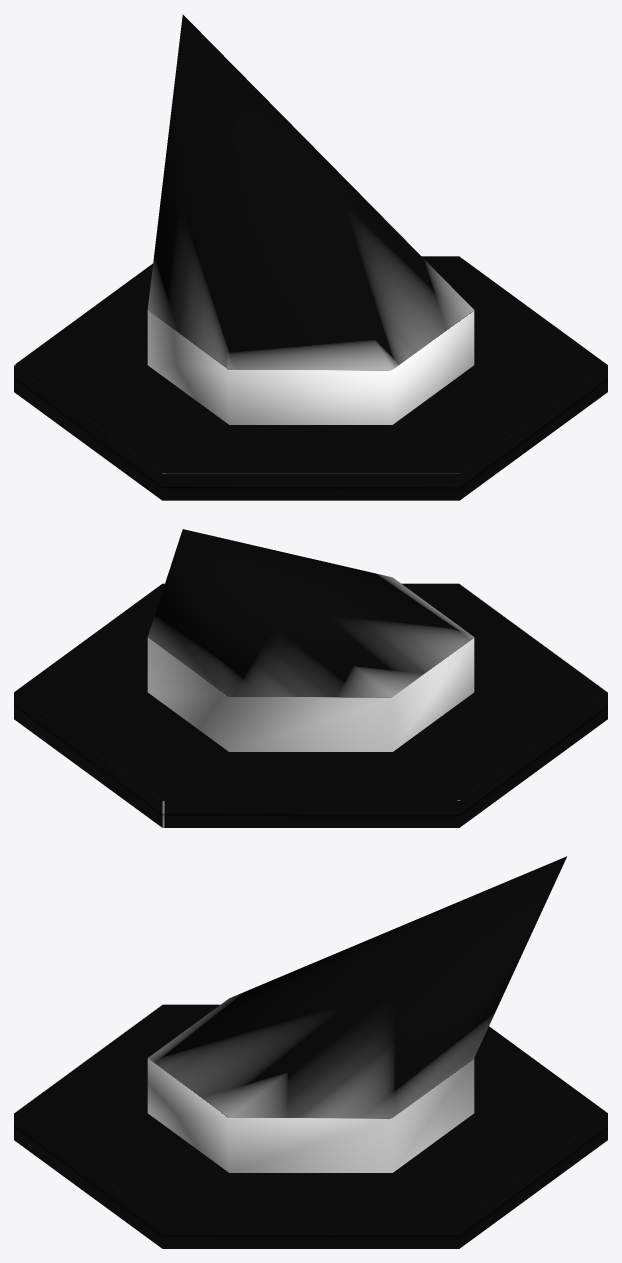
Rendered from playerHat.obj.
3 renders of one model, top to bottom at view 1: azimuth 30°, elevation 25°; view 2: azimuth 150°, elevation 25°; view 3: azimuth 270°, elevation 25°, orthographic.
Visible parts, largest first — view 1: 円柱; view 2: 円柱; view 3: 円柱.
Part boxes in pixels (bbox=[...]): 円柱: bbox=[14, 14, 607, 500]; 円柱: bbox=[14, 529, 607, 827]; 円柱: bbox=[14, 856, 607, 1248].
Bounding box in the file's own units: 3.46 × 2.11 × 4.
Materials: 1 (1 with a texture image).
